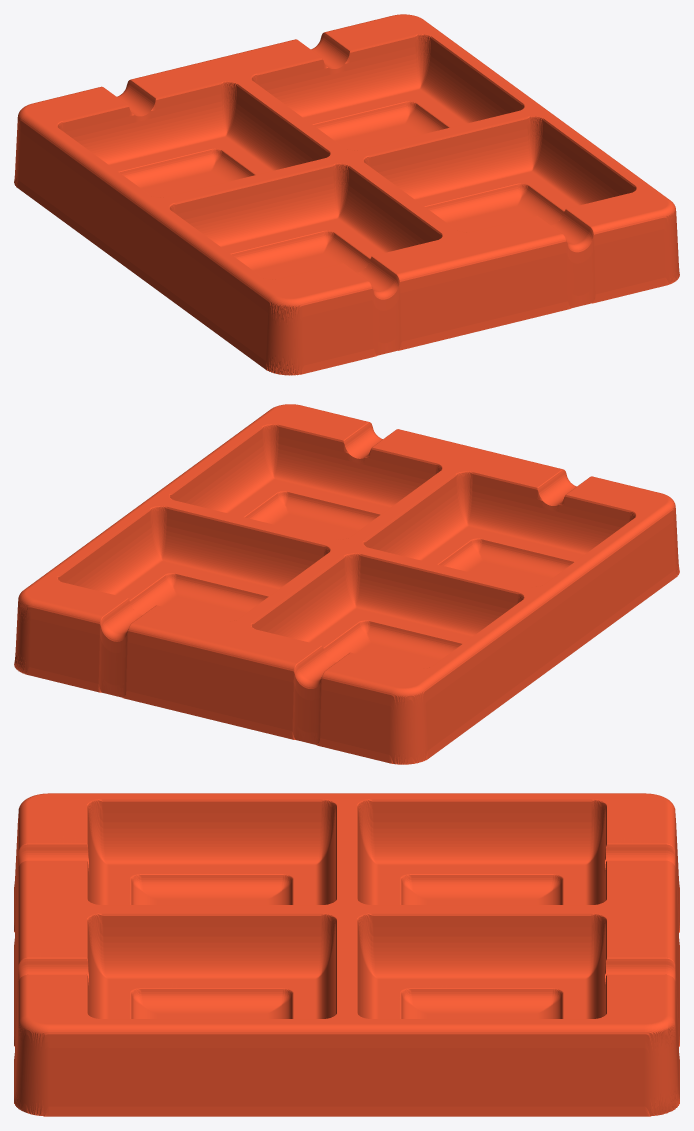
File: mold.glb
The picture shows the model from 3 angles, top to bottom: view 1: azimuth 30°, elevation 25°; view 2: azimuth 150°, elevation 25°; view 3: azimuth 270°, elevation 25°; orthographic projection. The views are drawn at different scales.
Parts seen in each view (by area): view 1: geometry_0; view 2: geometry_0; view 3: geometry_0.
Boxes of the visible parts, box(x1,y1,x2,y2) form: geometry_0: box(14, 14, 679, 375); geometry_0: box(14, 404, 679, 764); geometry_0: box(14, 793, 679, 1116).
Bounding box in the file's own units: 0.1468 × 0.0245 × 0.171.
